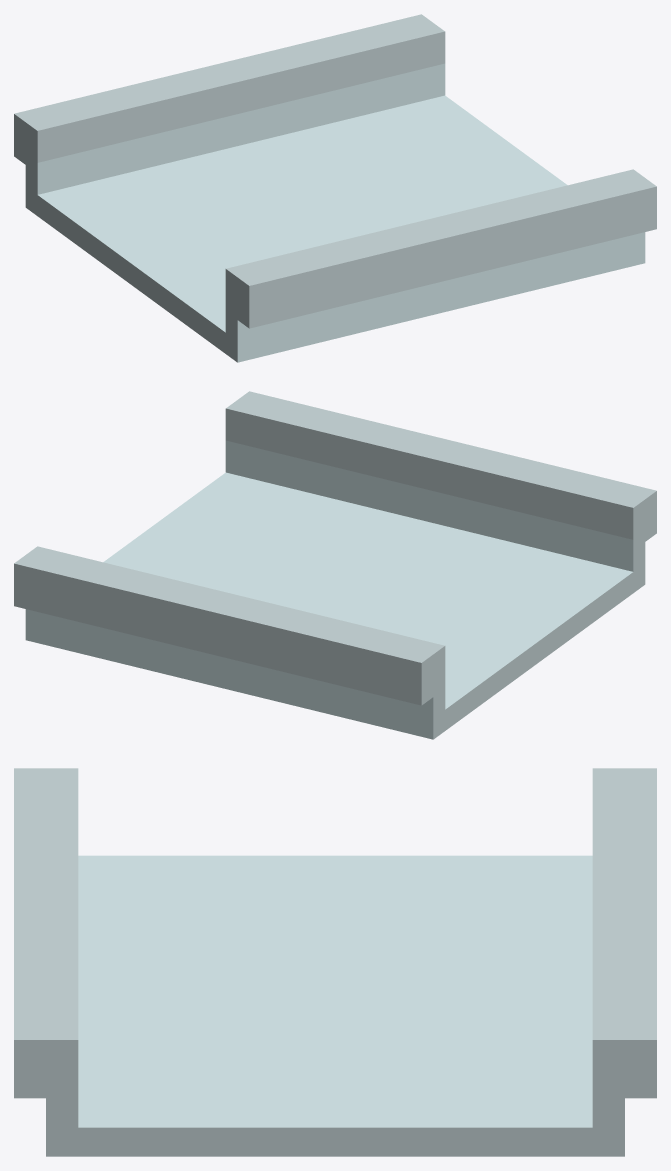
The model's file is bridge_center_stoneRound.glb.
3 views of the same model, one above another, from view 1: azimuth 30°, elevation 25°; view 2: azimuth 150°, elevation 25°; view 3: azimuth 270°, elevation 25° (orthographic). The views are drawn at different scales.
Parts seen in each view (by area): view 1: bridge_center_stoneRound; view 2: bridge_center_stoneRound; view 3: bridge_center_stoneRound.
Boxes of the visible parts, left/top/right/bottom form: bridge_center_stoneRound: left=14, top=14, right=656, bottom=362; bridge_center_stoneRound: left=14, top=391, right=656, bottom=739; bridge_center_stoneRound: left=14, top=768, right=656, bottom=1156.
Size of the model in its own units: 1 by 0.2 by 1.
